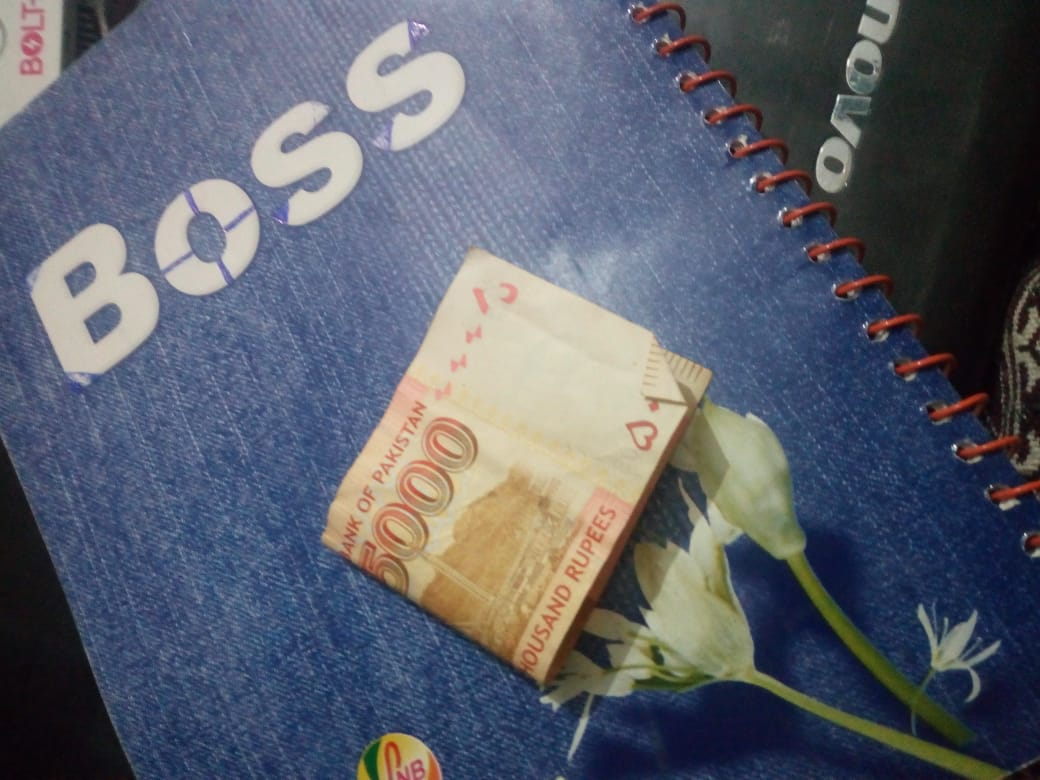5000 rupee: (309, 252, 727, 659)
